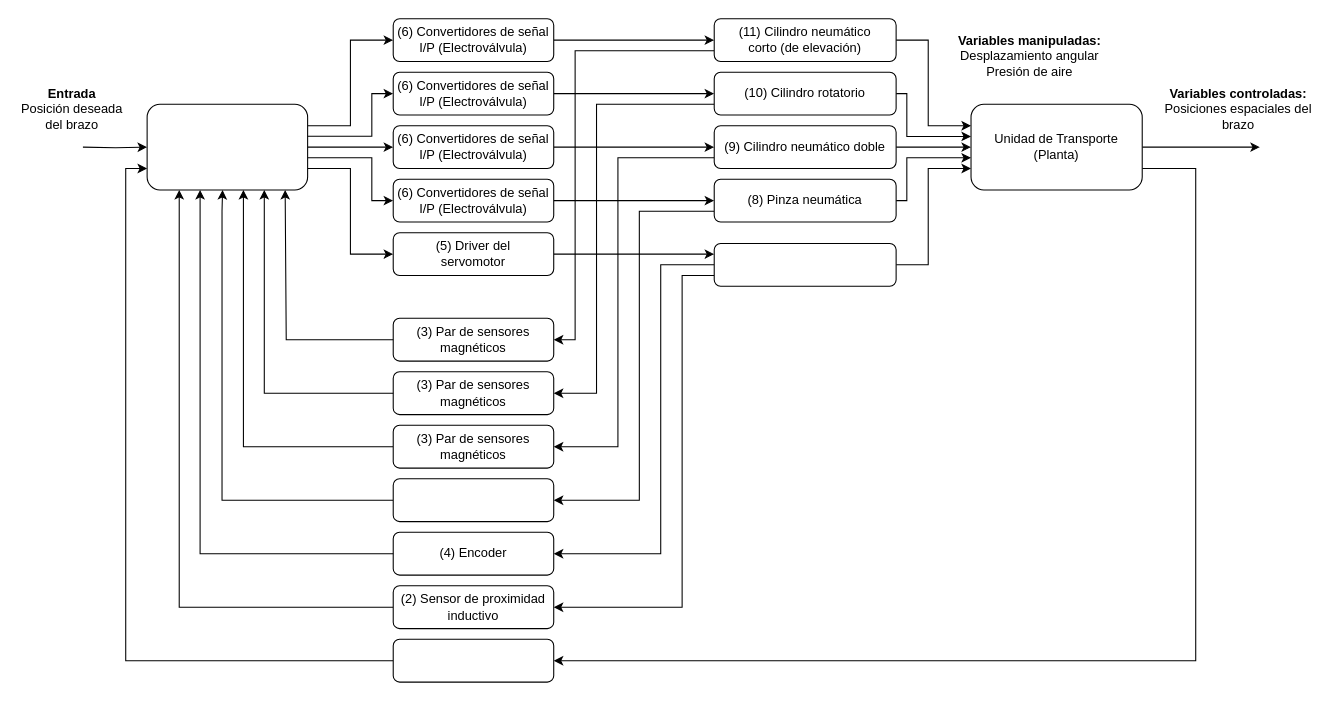
This 1331x701 diagram has some shape labels left out. The centre of each missing label's shape, as x and y in pixels:
(1) Finales de carrera: the point at 473,660
(3) Sensor de pinza: the point at 473,500
(7) Servomotor: the point at 804,264
PLC S7 200 (Controlador): the point at 227,146
